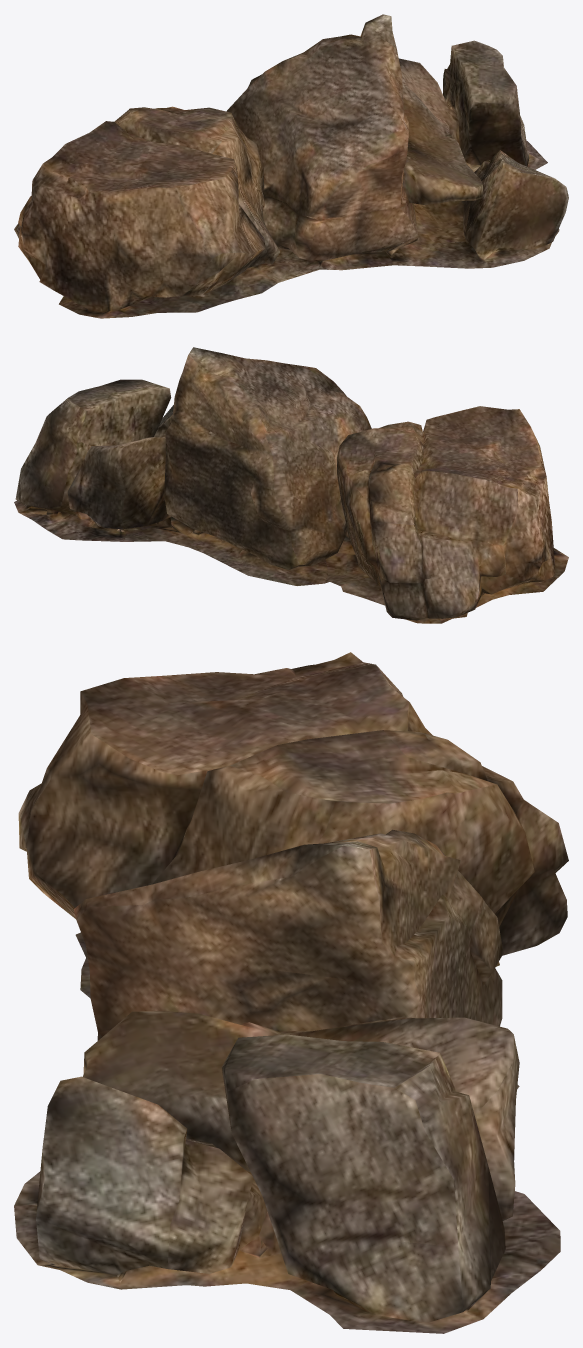
Rendered from namaqualand_boulder_02.glb.
The picture shows the model from 3 angles, top to bottom: view 1: azimuth 30°, elevation 25°; view 2: azimuth 150°, elevation 25°; view 3: azimuth 270°, elevation 25°; orthographic projection. The views are drawn at different scales.
Visible parts, largest first — view 1: boulder_02; view 2: boulder_02; view 3: boulder_02.
Boxes of the visible parts, x1,y1,x2,y2 form: boulder_02: [14, 14, 568, 318]; boulder_02: [14, 347, 568, 623]; boulder_02: [14, 652, 568, 1333].
Size of the model in its own units: 2.51 by 0.8789 by 1.23.
Materials: 1 (1 with a texture image).
